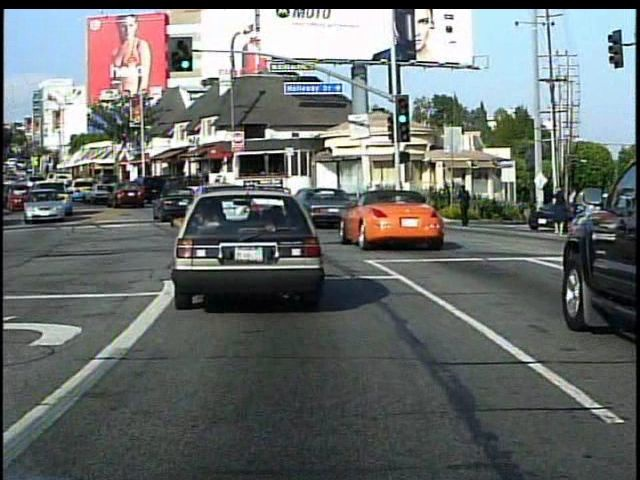person: (548, 182, 570, 236), (455, 182, 476, 230)
